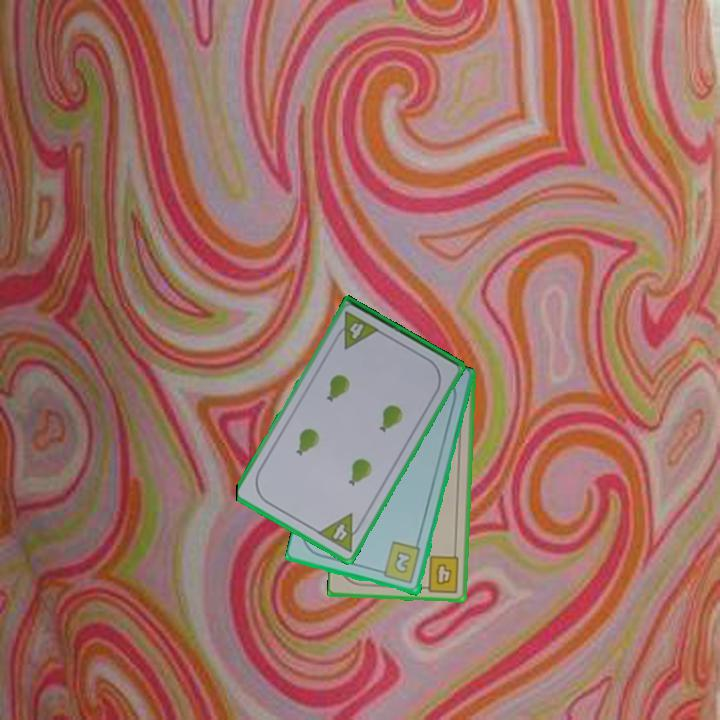2b: (375, 539, 424, 587)
4b: (418, 552, 462, 595)
4p: (314, 510, 367, 555), (330, 308, 382, 352)
